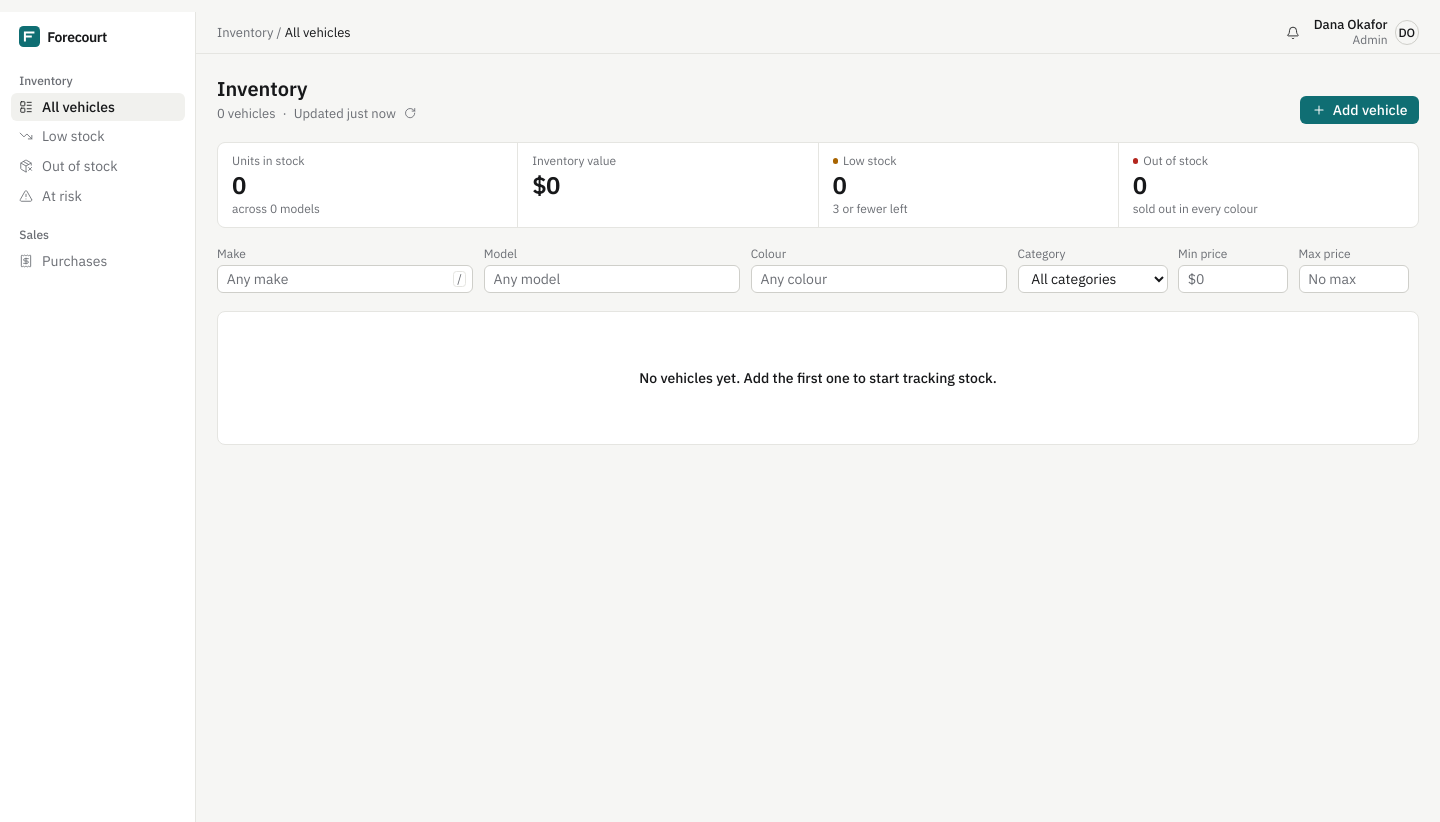
it: purchases page › is linked from the navigation for admins
Click the link "Purchases": (63, 261) [19,252,107,270]
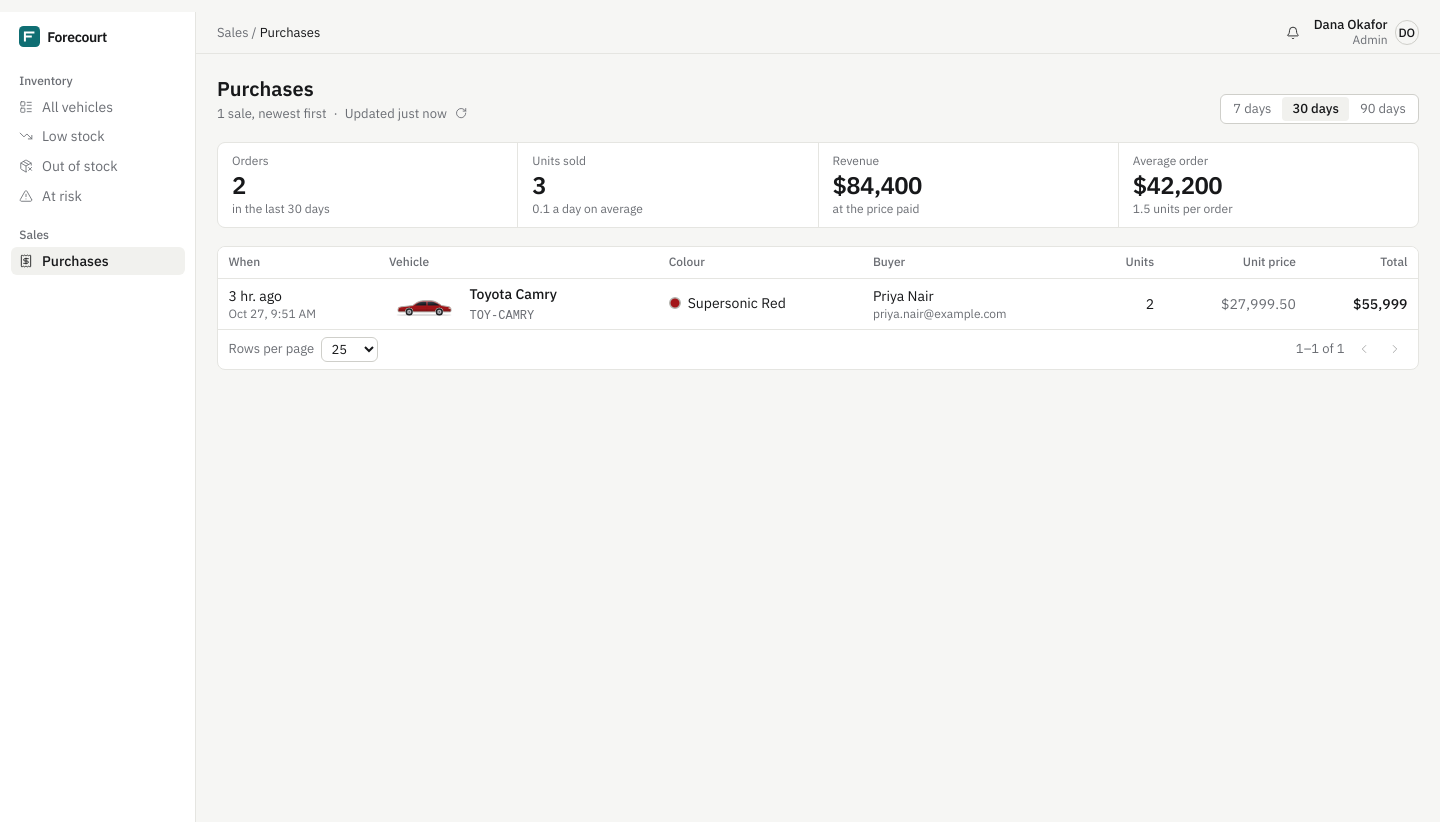
Expected: the heading "Purchases" is shown, [217,75,314,102]
Expected: the text "Purchases" is shown, [260,24,320,40]
